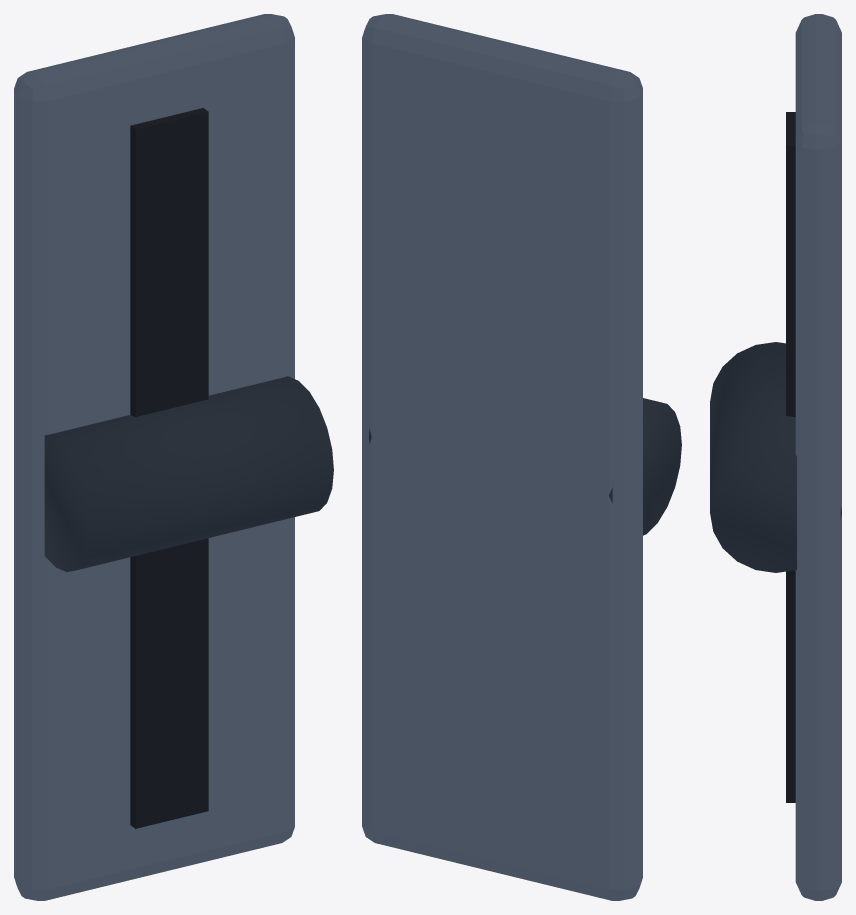
File: palanca_grande_base.glb
3 views of the same model, side by side, from view 1: azimuth 30°, elevation 25°; view 2: azimuth 150°, elevation 25°; view 3: azimuth 270°, elevation 25° (orthographic). The views are drawn at different scales.
Parts seen in each view (by area): view 1: Cube.127, Cube.128, Cylinder.073; view 2: Cube.127, Cylinder.073; view 3: Cube.127, Cylinder.073, Cube.128.
Boxes of the visible parts, <box> form: Cube.127: <box>14,14,294,900</box>; Cube.128: <box>130,108,208,828</box>; Cylinder.073: <box>44,376,333,571</box>; Cube.127: <box>362,14,642,900</box>; Cylinder.073: <box>368,398,681,535</box>; Cube.127: <box>795,14,841,900</box>; Cylinder.073: <box>710,342,841,572</box>; Cube.128: <box>786,112,795,802</box>.
Bounding box in the file's own units: 0.09 × 0.26 × 0.04.
